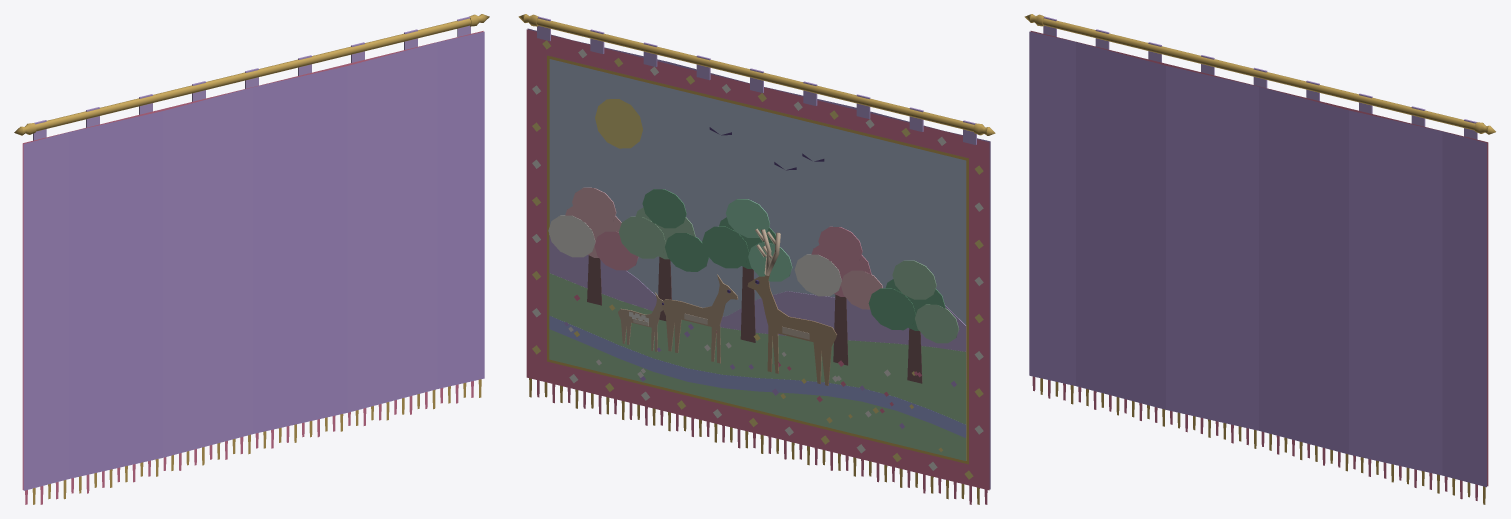
The model's file is tapestry_hunt.glb.
3 views of the same model, side by side, from view 1: azimuth 30°, elevation 25°; view 2: azimuth 150°, elevation 25°; view 3: azimuth 330°, elevation 25° (orthographic).
Parts seen in each view (by area): view 1: tapestry_hunt; view 2: tapestry_hunt; view 3: tapestry_hunt.
Boxes of the visible parts, <box> form: tapestry_hunt: <box>14,14,489,504</box>; tapestry_hunt: <box>518,14,995,504</box>; tapestry_hunt: <box>1024,14,1495,504</box>.
Size of what is drawn, in the model's own units: 2.6 by 2 by 0.05.
